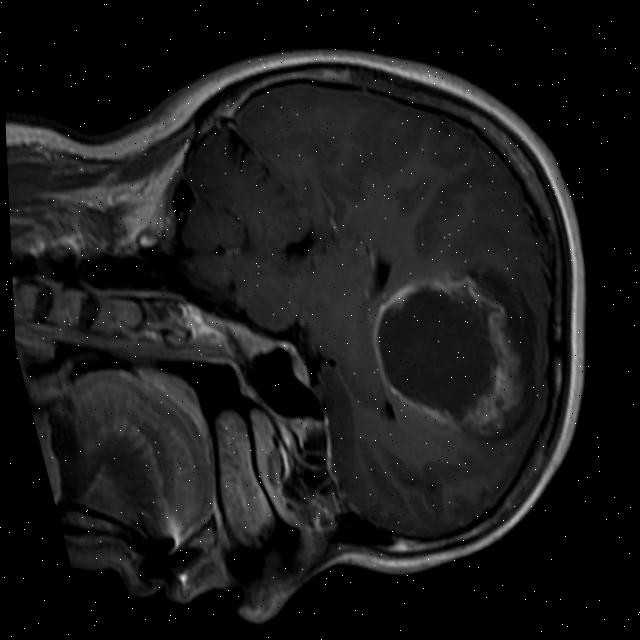Glioma: (356, 257, 539, 457)
